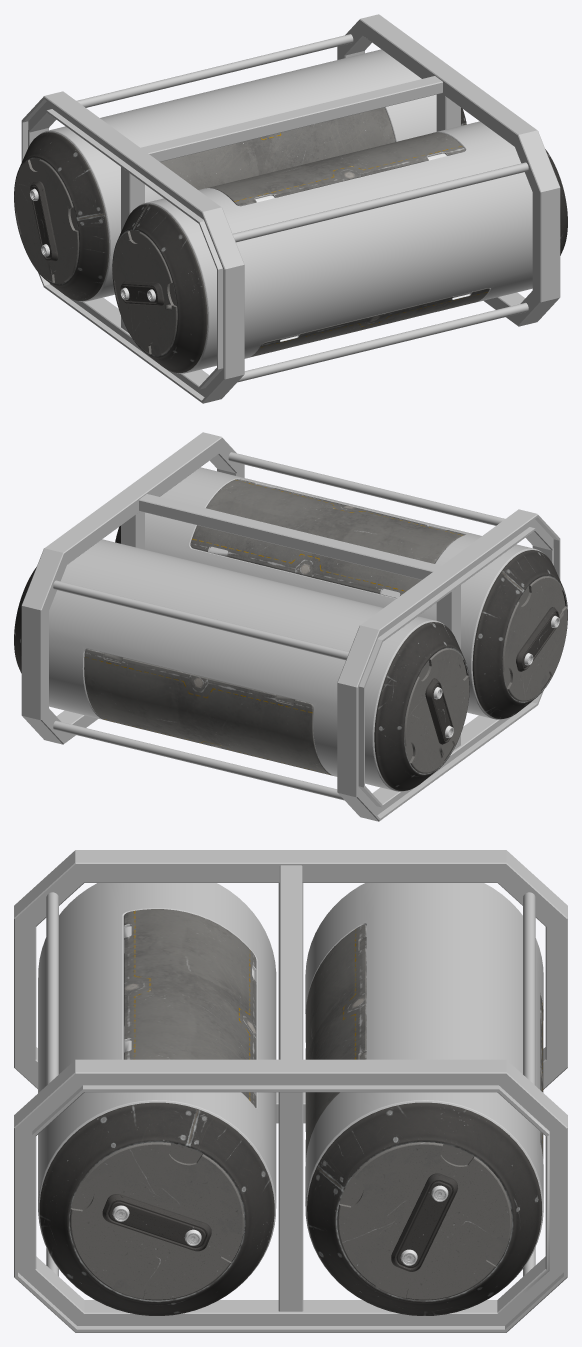
The model's file is KB3D_MTM_PropTanks_B.fbx.
3 renders of one model, top to bottom at view 1: azimuth 30°, elevation 25°; view 2: azimuth 150°, elevation 25°; view 3: azimuth 270°, elevation 25°, orthographic. The views are drawn at different scales.
Visible parts, largest first — view 1: KB3D_MTM_PropTanks_B_Main; view 2: KB3D_MTM_PropTanks_B_Main; view 3: KB3D_MTM_PropTanks_B_Main.
Part boxes in pixels (box(x1,y1,x2,y2)): KB3D_MTM_PropTanks_B_Main: box(14, 14, 567, 403); KB3D_MTM_PropTanks_B_Main: box(14, 432, 567, 821); KB3D_MTM_PropTanks_B_Main: box(14, 850, 567, 1332).
Size of the model in its own units: 298 by 134 by 258.
